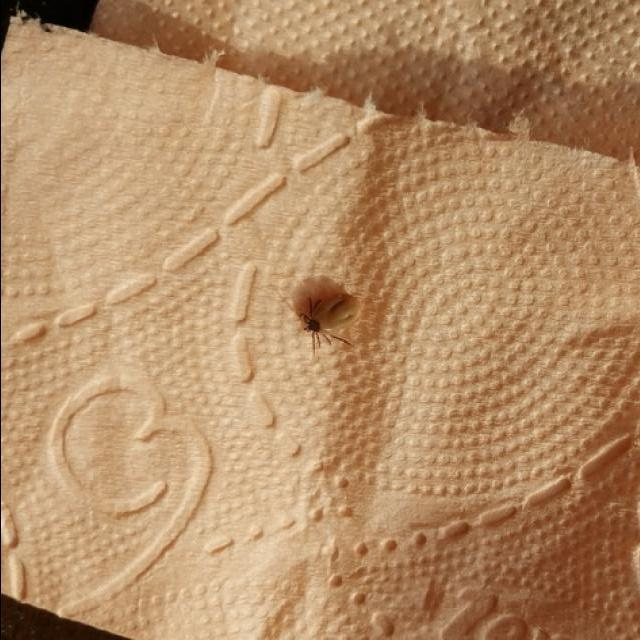Ixodes Ricinus-F-Fed: (296, 289, 359, 362)
